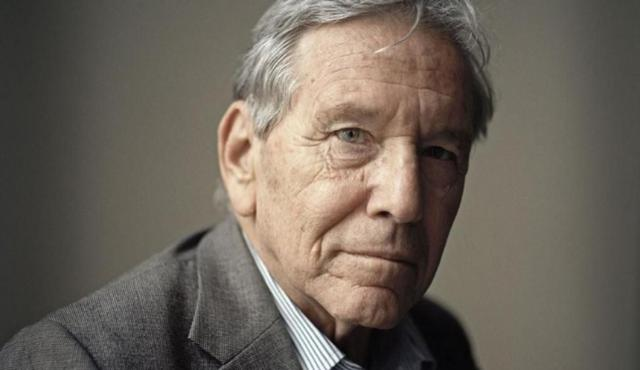chin: (359, 272, 388, 298), (320, 264, 348, 286)
crows_feet: (298, 120, 324, 156)
forehead: (328, 44, 354, 80)
frown_line: (387, 95, 403, 122), (412, 88, 426, 118), (383, 125, 409, 141)
gummy_smile: (316, 200, 344, 246)
masseter: (298, 164, 324, 186)
